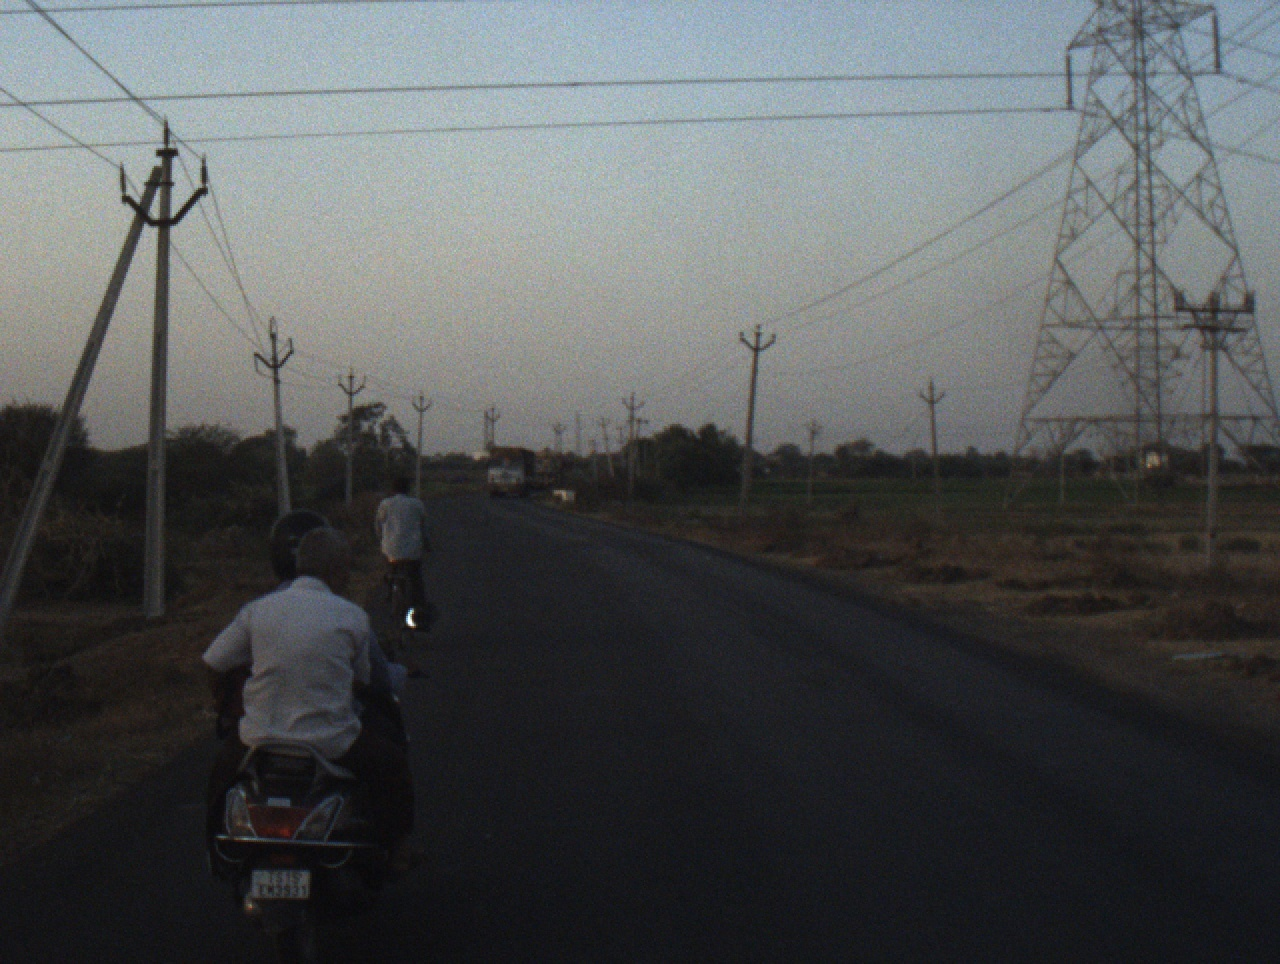bicycle: (383, 564, 413, 657)
motorcycle: (214, 665, 430, 941)
rider: (195, 526, 430, 875), (253, 511, 406, 723), (370, 472, 432, 630)
truck: (481, 444, 537, 502), (529, 446, 563, 494)
